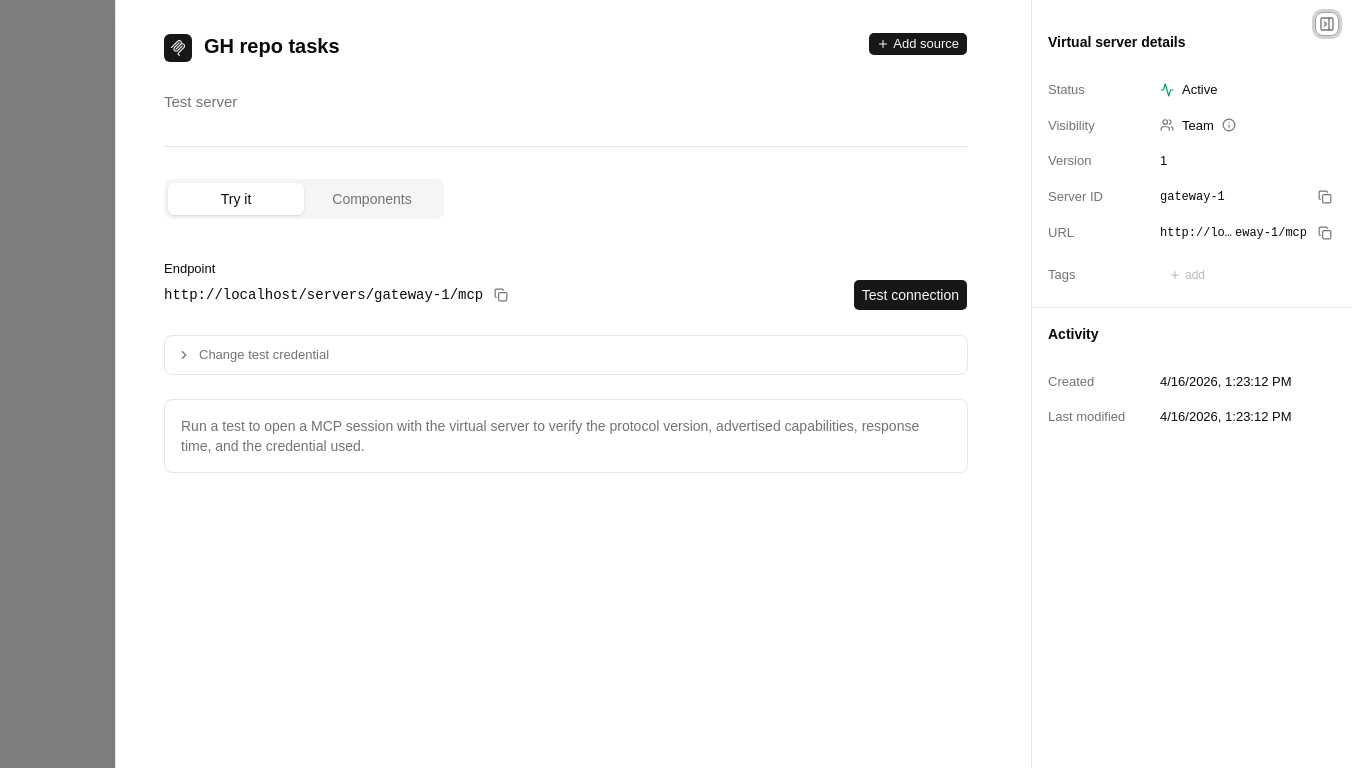
Scenario: VirtualServerDetailsPanel test connection tab › runs a handshake and displays a successful result
Click the tab "Try it".
click(236, 199)  # box [168,183,304,215]
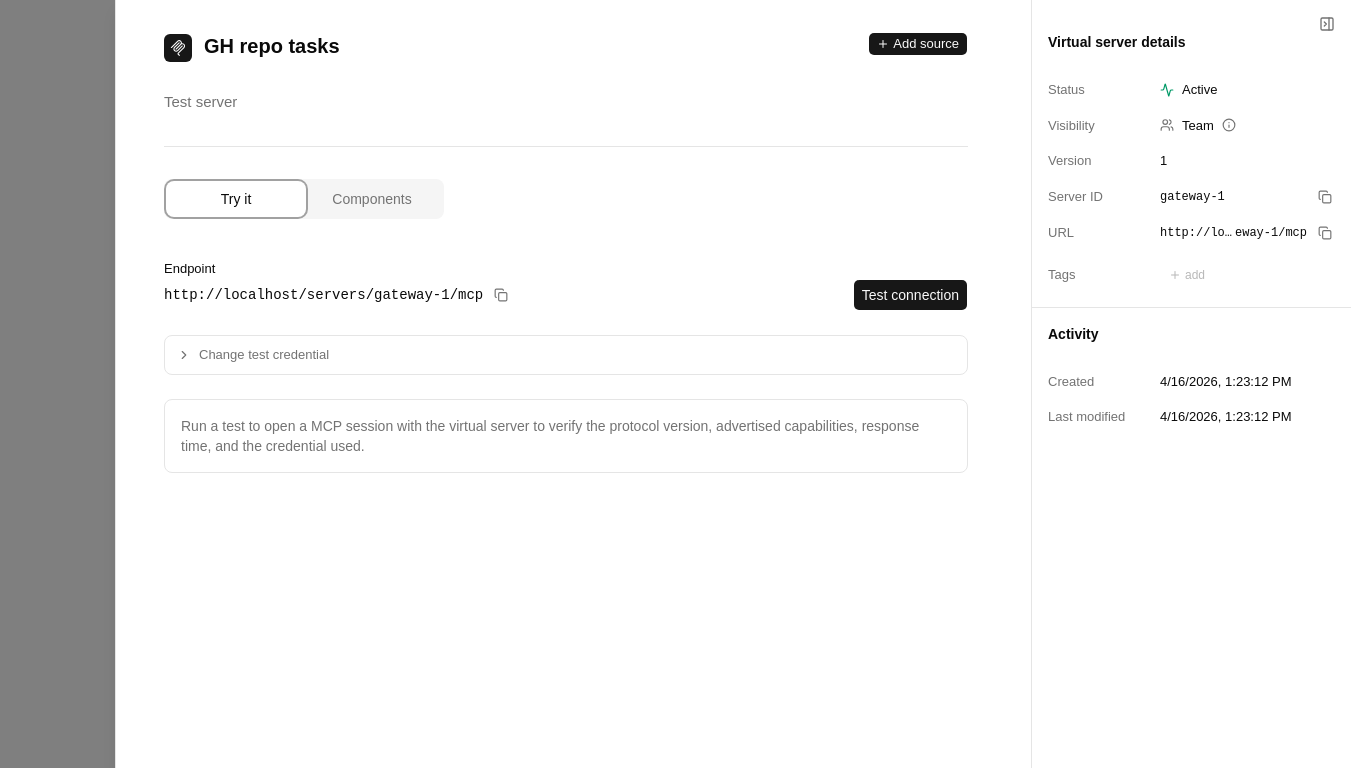
Click the button "Test connection".
click(910, 294)  # box [853,278,968,310]
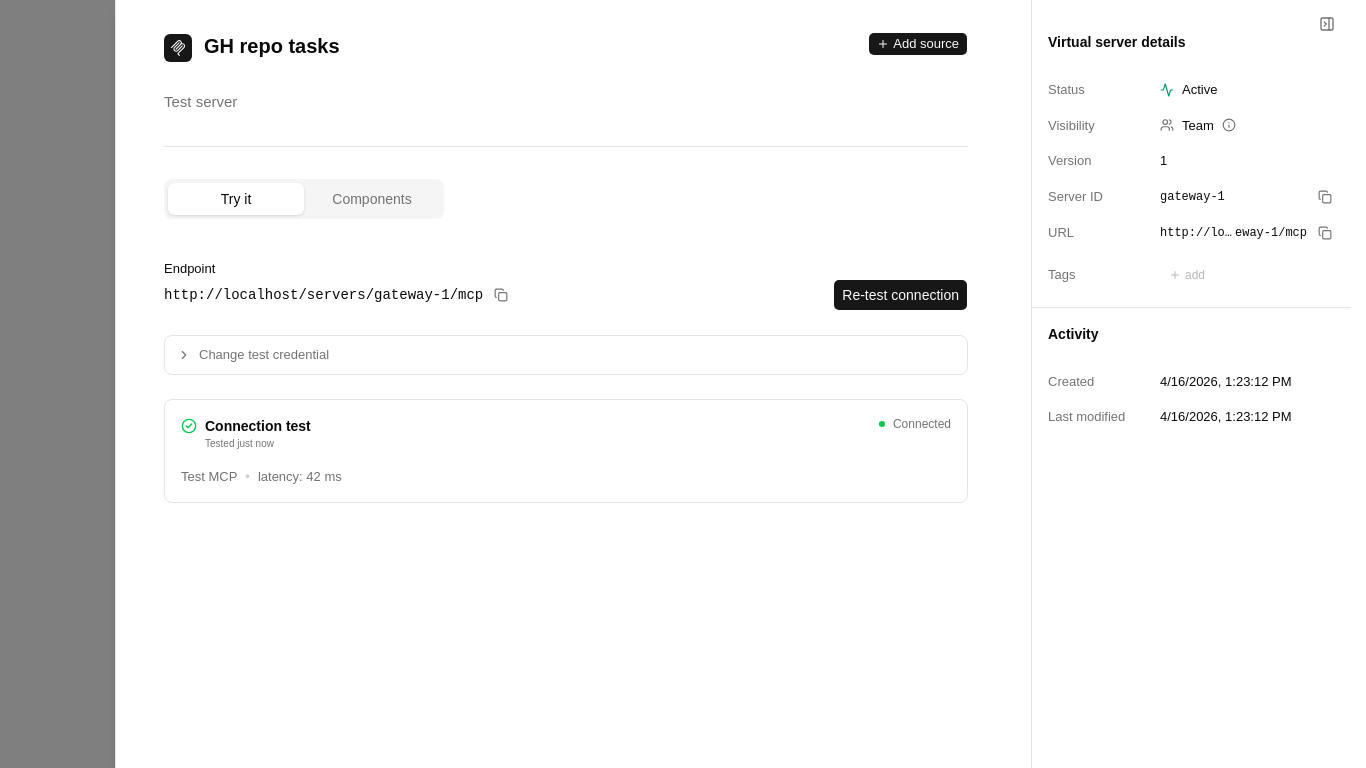
Expected: the text "Connection test" is shown, [205,416,311,436]
Expected: the text "latency: 42 ms" is shown, [258,466,342,486]
